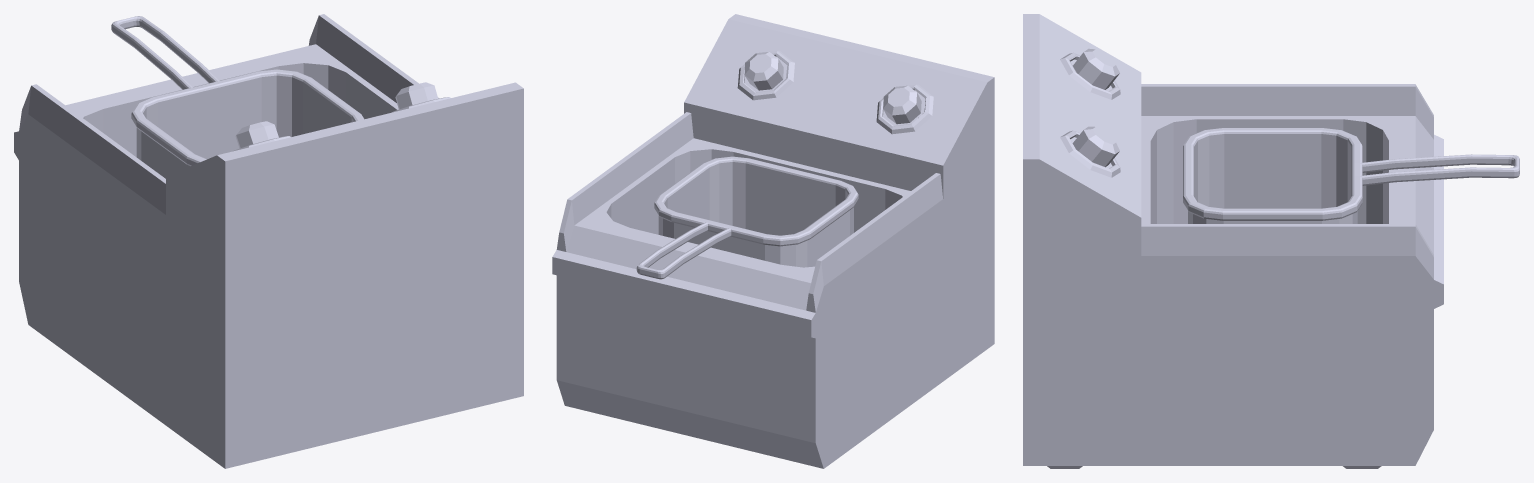
The model's file is Borrar al terminar de usar.fbx.
The picture shows the model from 3 angles, left to right: view 1: azimuth 30°, elevation 25°; view 2: azimuth 150°, elevation 25°; view 3: azimuth 270°, elevation 25°; orthographic projection. The views are drawn at different scales.
Visible parts, largest first — view 1: m_Freidora, m_Freidora_Cesta, m_Freidora_Perilla_02, m_Freidora_Perilla_01; view 2: m_Freidora, m_Freidora_Cesta, m_Freidora_Perilla_01, m_Freidora_Perilla_02; view 3: m_Freidora, m_Freidora_Cesta, m_Freidora_Perilla_02, m_Freidora_Perilla_01.
Part boxes in pixels (<box>): m_Freidora: <box>14,14,523,468</box>; m_Freidora_Cesta: <box>111,16,363,178</box>; m_Freidora_Perilla_02: <box>235,121,278,148</box>; m_Freidora_Perilla_01: <box>395,82,437,109</box>; m_Freidora: <box>552,14,994,468</box>; m_Freidora_Cesta: <box>636,156,858,279</box>; m_Freidora_Perilla_01: <box>744,52,783,90</box>; m_Freidora_Perilla_02: <box>883,85,921,124</box>; m_Freidora: <box>1023,14,1443,468</box>; m_Freidora_Cesta: <box>1183,128,1519,223</box>; m_Freidora_Perilla_02: <box>1073,48,1119,89</box>; m_Freidora_Perilla_01: <box>1072,126,1119,167</box>.
Size of the model in its own units: 121 by 124 by 175.
